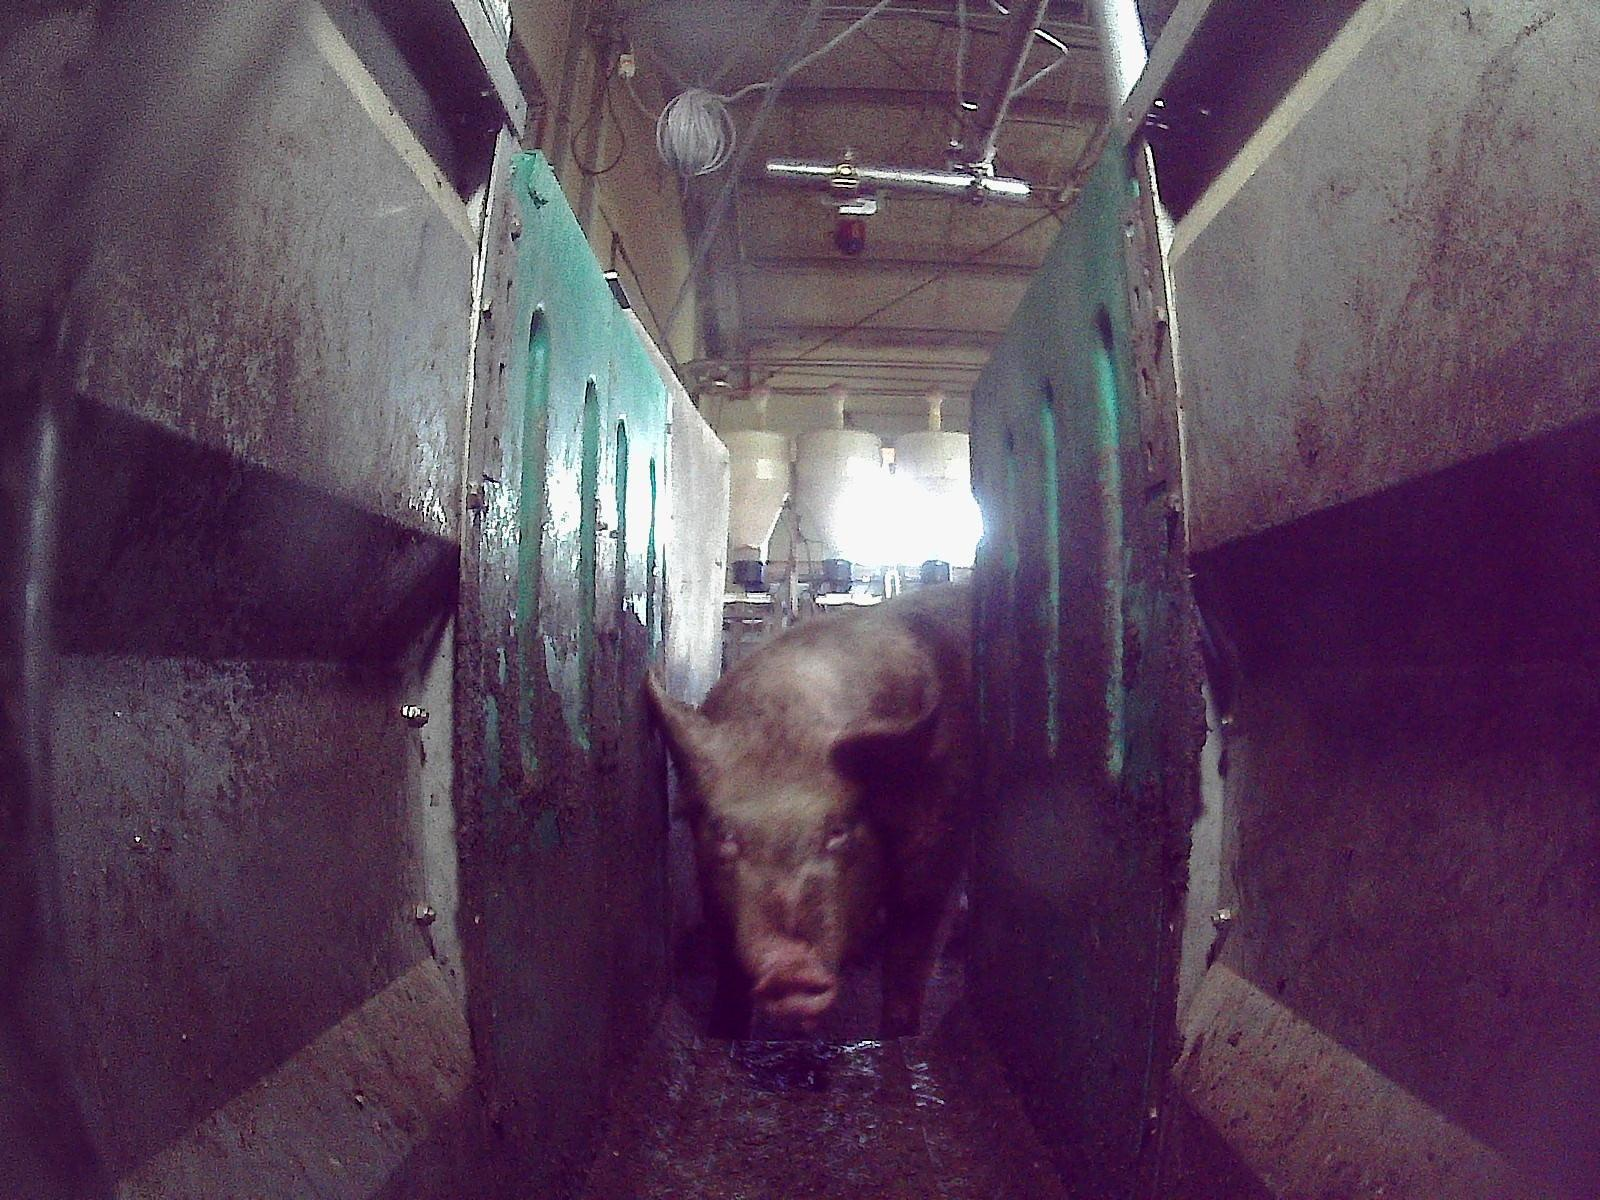Face: (676, 719, 880, 1014)
